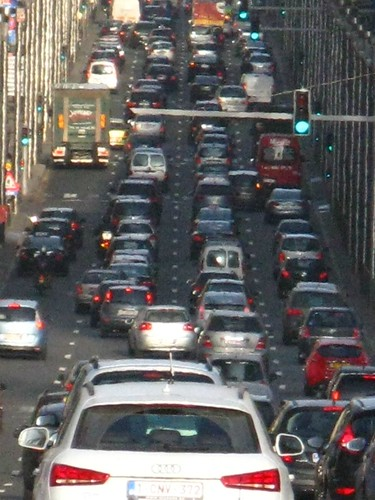car: (51, 382, 297, 500), (130, 300, 202, 355), (201, 310, 273, 365), (1, 292, 45, 360), (16, 229, 72, 278), (97, 287, 155, 332), (112, 139, 170, 184), (273, 253, 331, 298), (305, 338, 363, 383)
truck: (41, 83, 116, 175)
